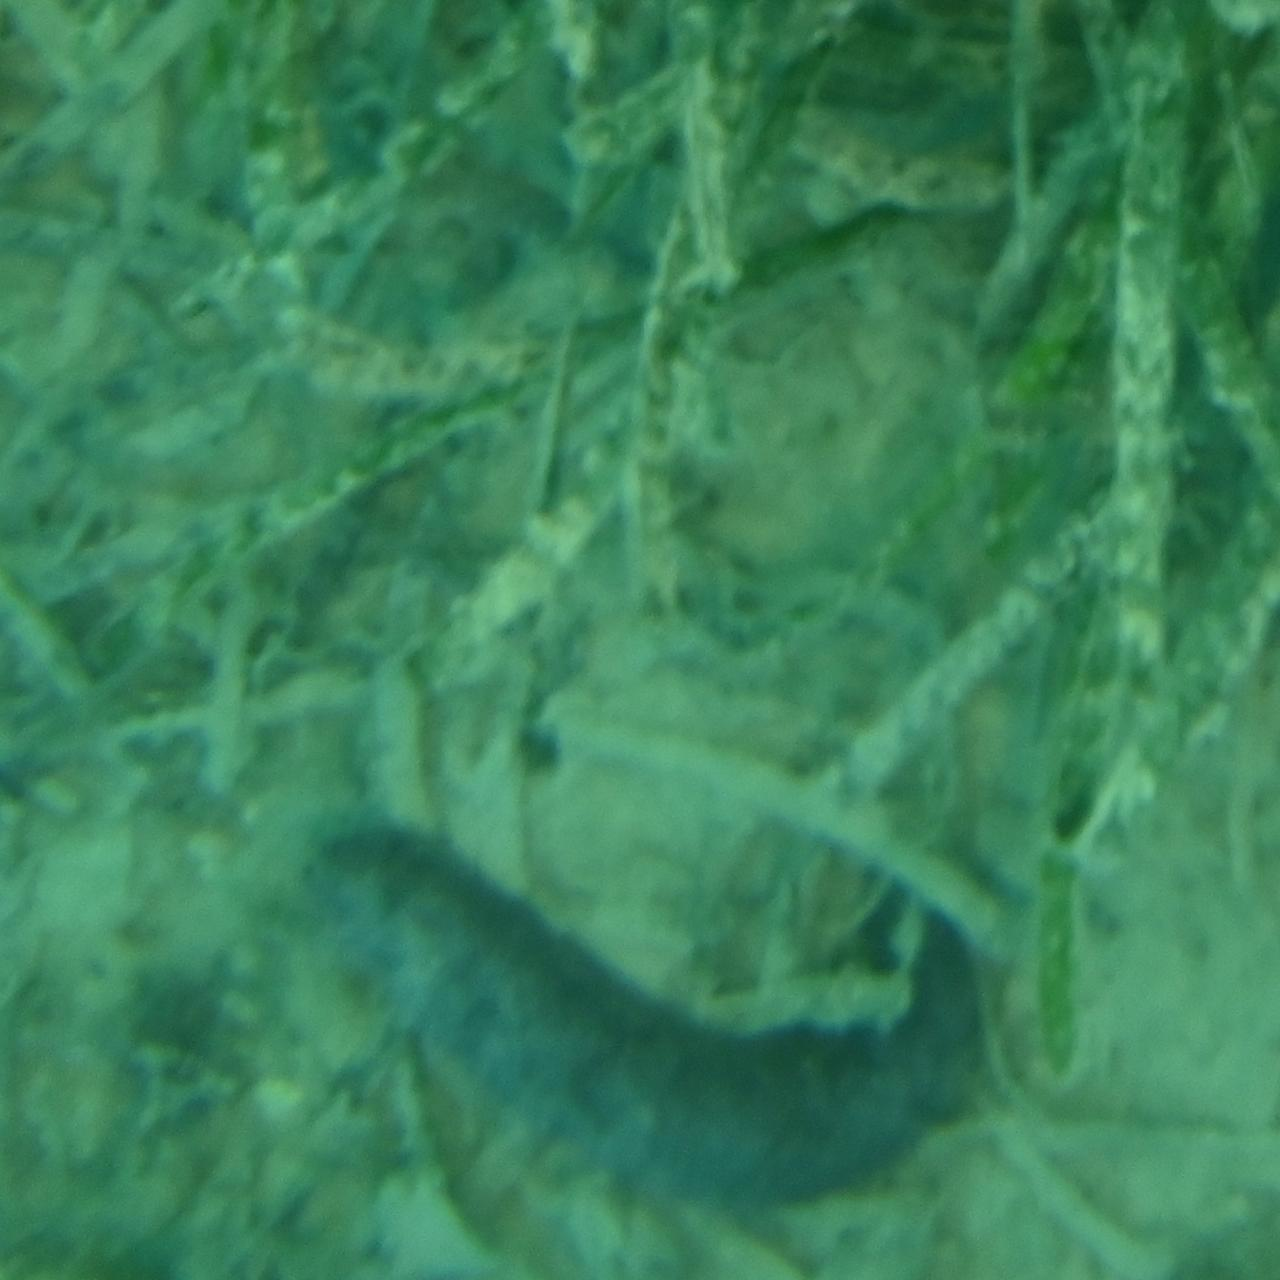Holothuria tubulosa: (288, 814, 992, 1216)
